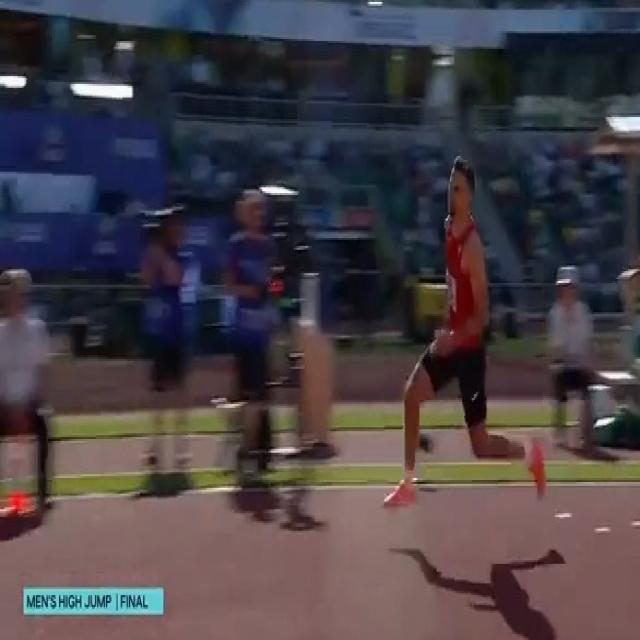run: (382, 156, 555, 518)
